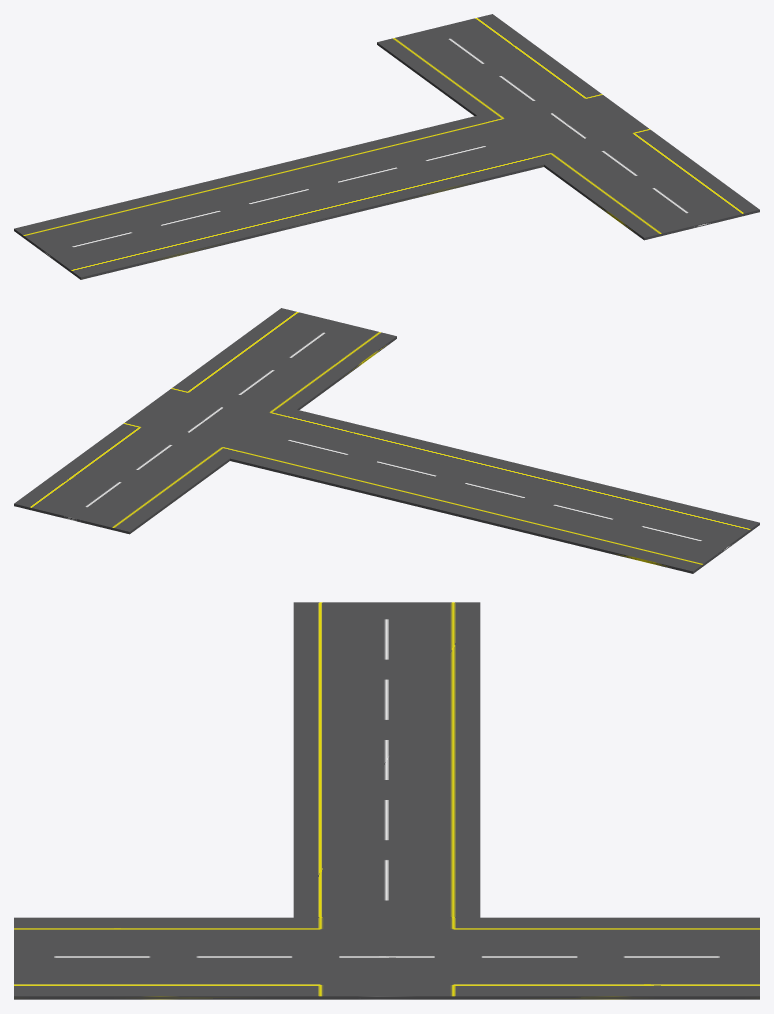
File: straightroadand intersection T.glb
3 renders of one model, top to bottom at view 1: azimuth 30°, elevation 25°; view 2: azimuth 150°, elevation 25°; view 3: azimuth 270°, elevation 25°, orthographic. The views are drawn at different scales.
Visible parts, largest first — view 1: Cube.001; view 2: Cube.001; view 3: Cube.001.
Part boxes in pixels (left/top/right/bottom): Cube.001: left=14, top=14, right=759, bottom=279; Cube.001: left=14, top=308, right=759, bottom=573; Cube.001: left=14, top=602, right=759, bottom=999.
Bounding box in the file's own units: 50 × 0.2 × 40.
2 materials, 2 textured.
